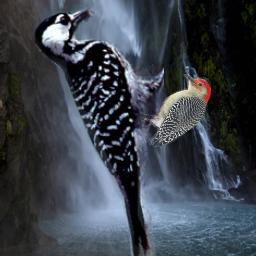Woodpecker: (32, 2, 164, 256), (138, 74, 211, 147)
